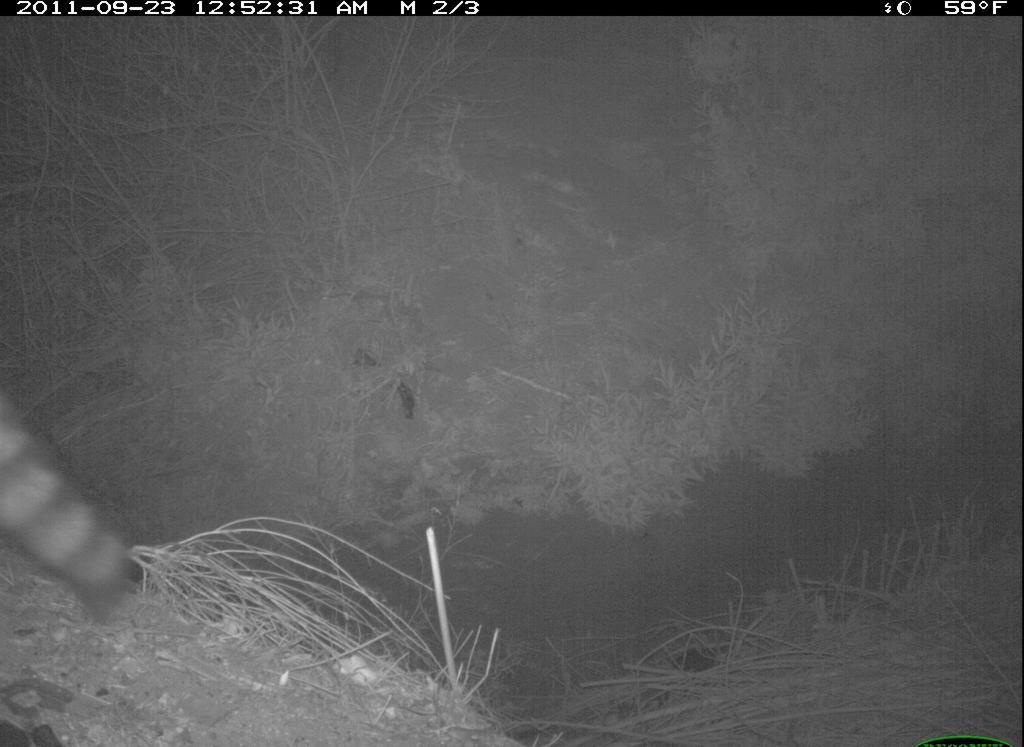raccoon: (17, 382, 141, 620)
